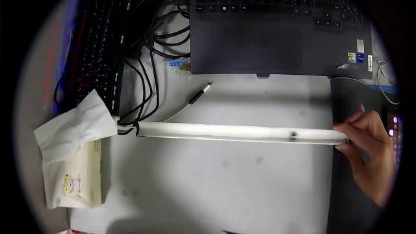gangzhu: (288, 131, 298, 139)
